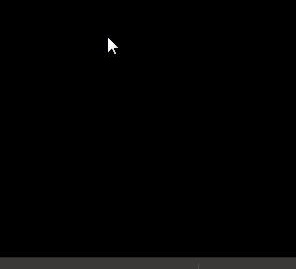cursor: (106, 35, 119, 56)
